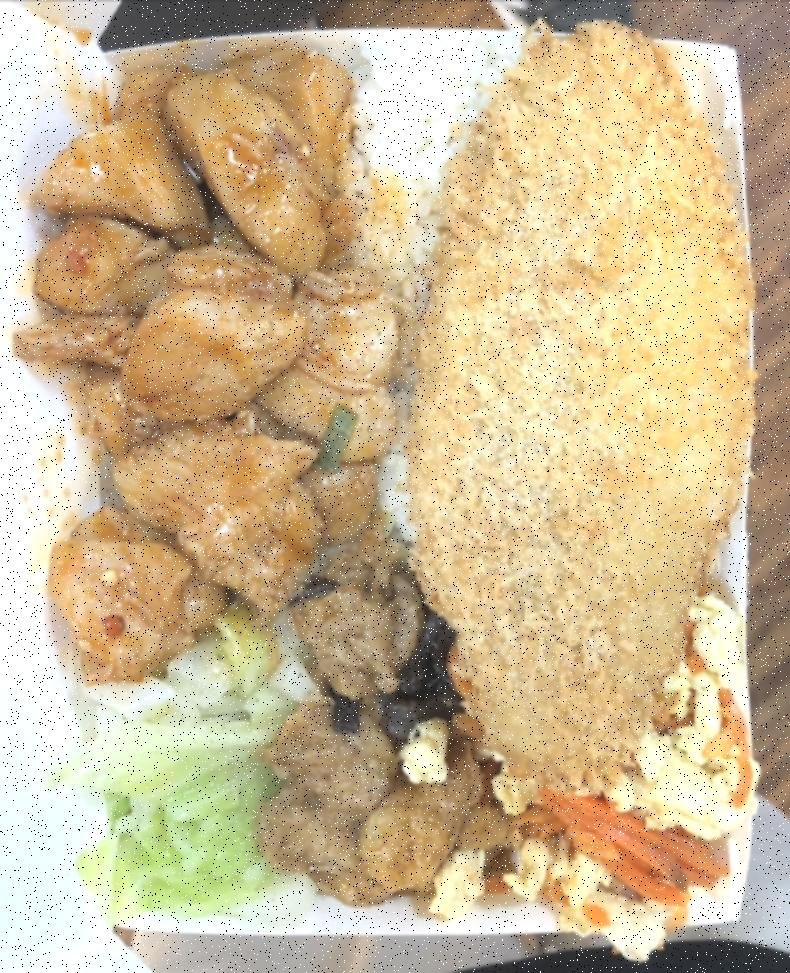big grilled chicken leg: (39, 10, 775, 950)
big herbal chicken leg: (345, 42, 502, 544)
braised fish fillet: (494, 600, 743, 939), (270, 596, 492, 902), (54, 650, 284, 920)
braised pork: (403, 31, 750, 786), (43, 48, 404, 686)
